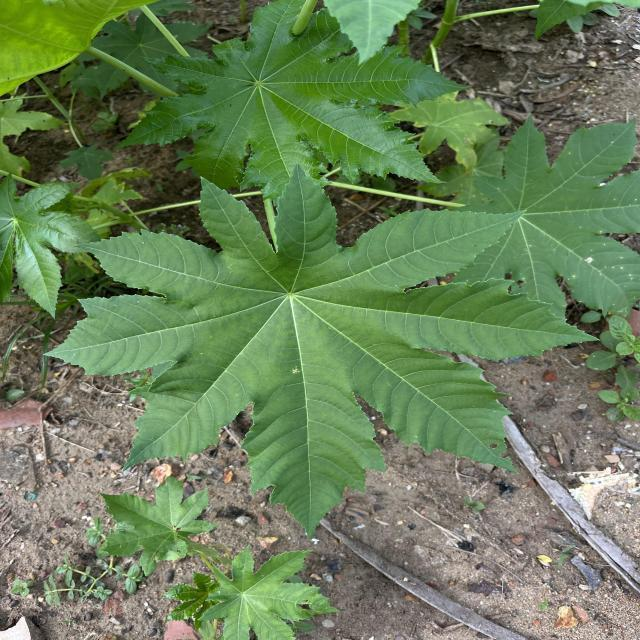Ricinus communis linn: (34, 160, 606, 544)
